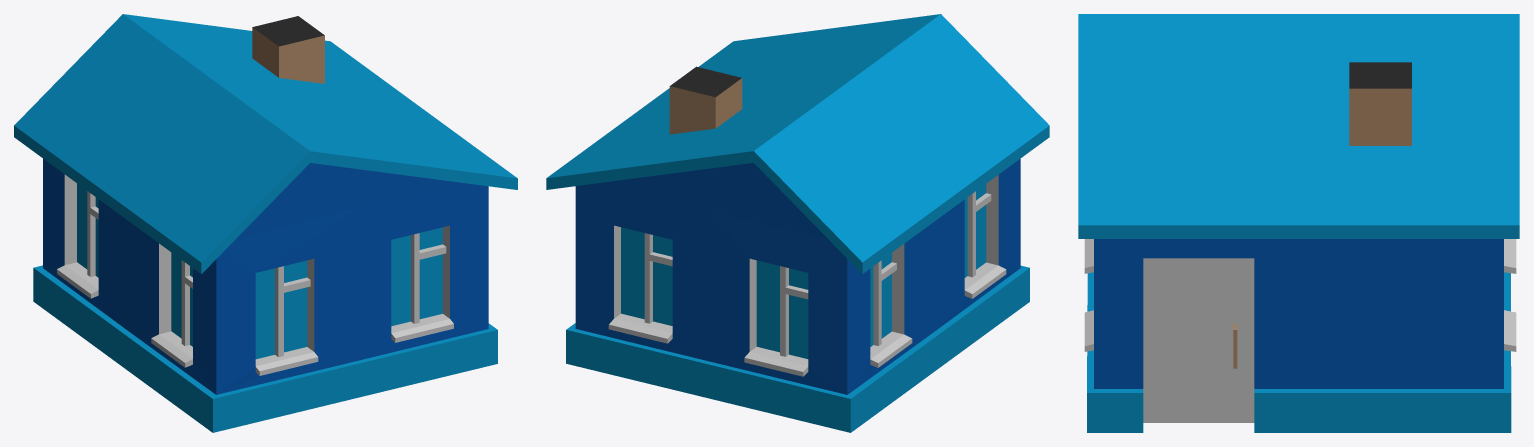
The model's file is house.dae.
3 views of the same model, side by side, from view 1: azimuth 30°, elevation 25°; view 2: azimuth 150°, elevation 25°; view 3: azimuth 270°, elevation 25° (orthographic). The views are drawn at different scales.
Visible parts, largest first — view 1: polymsh3_Pts_Material__1__Surf, polymsh3_Pts_Material__4__Surf, polymsh3_Pts_Material__2__Surf, polymsh3_Pts_Material__3__Surf, polymsh3_Pts_Material__5__Surf; view 2: polymsh3_Pts_Material__1__Surf, polymsh3_Pts_Material__4__Surf, polymsh3_Pts_Material__2__Surf, polymsh3_Pts_Material__3__Surf, polymsh3_Pts_Material__5__Surf; view 3: polymsh3_Pts_Material__1__Surf, polymsh3_Pts_Material__4__Surf, polymsh3_Pts_Material__2__Surf, polymsh3_Pts_Material__3__Surf, polymsh3_Pts_Material__5__Surf.
Part boxes in pixels (box(x1,y1,x2,y2)): polymsh3_Pts_Material__1__Surf: box(14, 14, 517, 432); polymsh3_Pts_Material__4__Surf: box(43, 158, 488, 394); polymsh3_Pts_Material__2__Surf: box(57, 174, 453, 375); polymsh3_Pts_Material__3__Surf: box(252, 27, 324, 83); polymsh3_Pts_Material__5__Surf: box(252, 16, 324, 46); polymsh3_Pts_Material__1__Surf: box(546, 14, 1049, 432); polymsh3_Pts_Material__4__Surf: box(575, 159, 1020, 394); polymsh3_Pts_Material__2__Surf: box(608, 175, 1006, 376); polymsh3_Pts_Material__3__Surf: box(669, 78, 742, 134); polymsh3_Pts_Material__5__Surf: box(670, 66, 741, 97); polymsh3_Pts_Material__1__Surf: box(1078, 14, 1519, 432); polymsh3_Pts_Material__4__Surf: box(1094, 239, 1503, 388); polymsh3_Pts_Material__2__Surf: box(1084, 239, 1516, 422); polymsh3_Pts_Material__3__Surf: box(1233, 88, 1411, 368); polymsh3_Pts_Material__5__Surf: box(1349, 62, 1411, 88).
Size of the model in its own units: 49.74 by 39.38 by 51.01.
